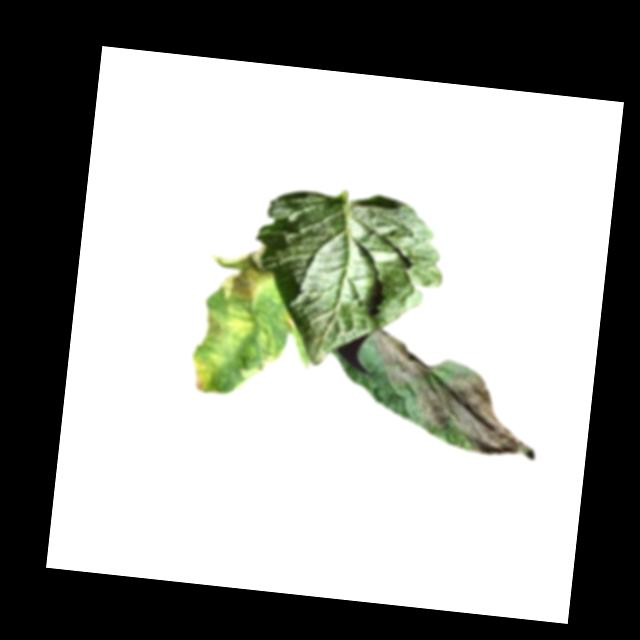Late_blight: (413, 369, 541, 461), (202, 241, 276, 306), (366, 329, 431, 392), (198, 307, 231, 349), (189, 354, 216, 395)
healthy: (241, 181, 453, 377)
